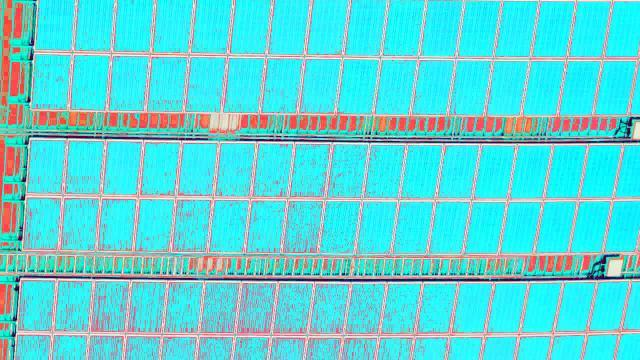dirty: (24, 135, 640, 252), (35, 3, 640, 113), (14, 280, 640, 358)
